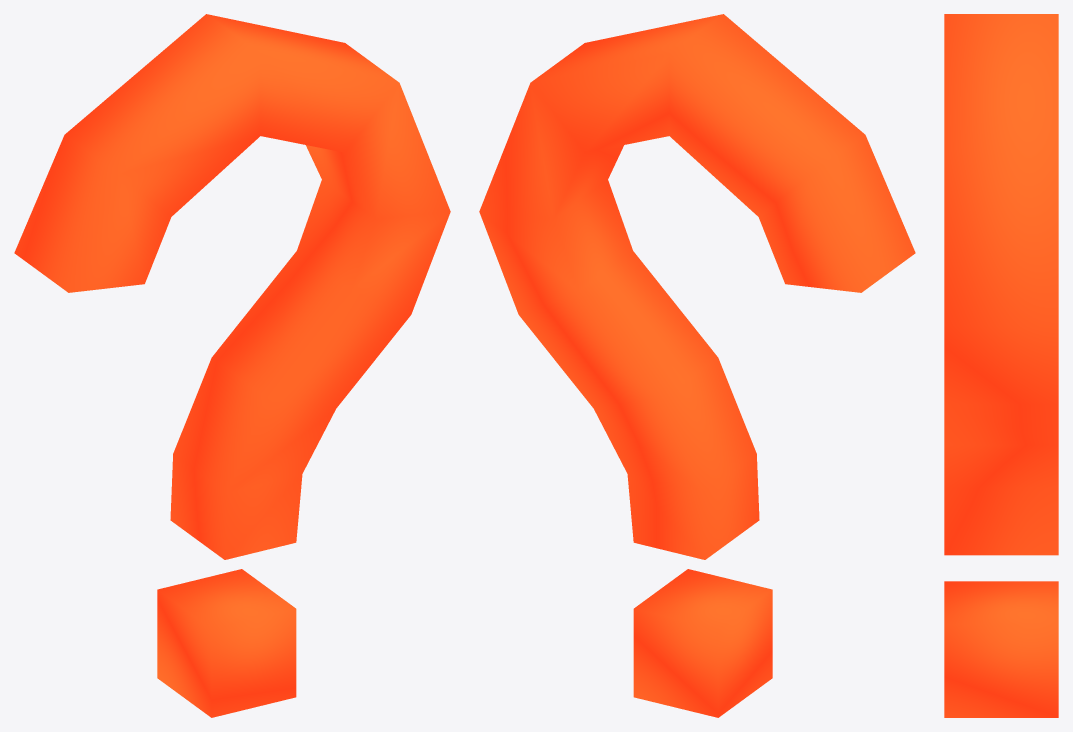
File: QuestionMark.FBX
3 views of the same model, side by side, from view 1: azimuth 30°, elevation 25°; view 2: azimuth 150°, elevation 25°; view 3: azimuth 270°, elevation 25° (orthographic). The views are drawn at different scales.
Visible parts, largest first — view 1: Question Mark; view 2: Question Mark; view 3: Question Mark.
Boxes of the visible parts, x1,y1,x2,y2 form: Question Mark: (14,14,450,717); Question Mark: (479,14,915,717); Question Mark: (944,14,1058,717).
Bounding box in the file's own units: 40.61 × 66.23 × 10.
